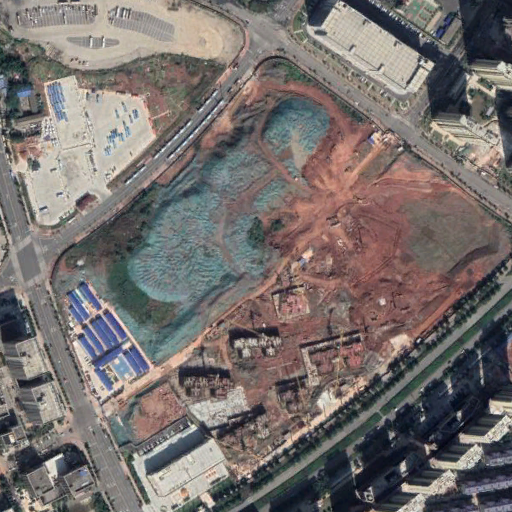cw: (50, 61, 510, 466)
